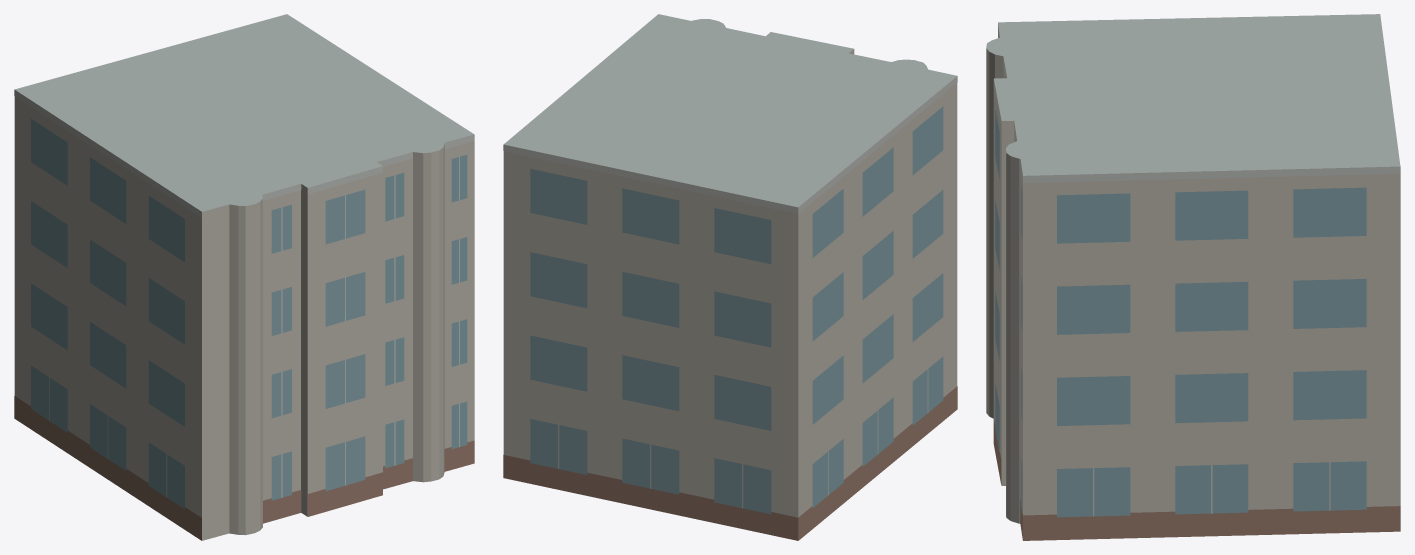
File: survey-upis-32799346.glb
The picture shows the model from 3 angles, left to right: view 1: azimuth 30°, elevation 25°; view 2: azimuth 150°, elevation 25°; view 3: azimuth 270°, elevation 25°; orthographic projection. The views are drawn at different scales.
Parts seen in each view (by area): view 1: survey-upis-32799346.tmp; view 2: survey-upis-32799346.tmp; view 3: survey-upis-32799346.tmp.
Boxes of the visible parts, x1,y1,x2,y2 form: survey-upis-32799346.tmp: (14,14,474,540); survey-upis-32799346.tmp: (503,14,957,540); survey-upis-32799346.tmp: (986,14,1400,540).
Size of the model in its own units: 11.71 by 12.3 by 12.66.
